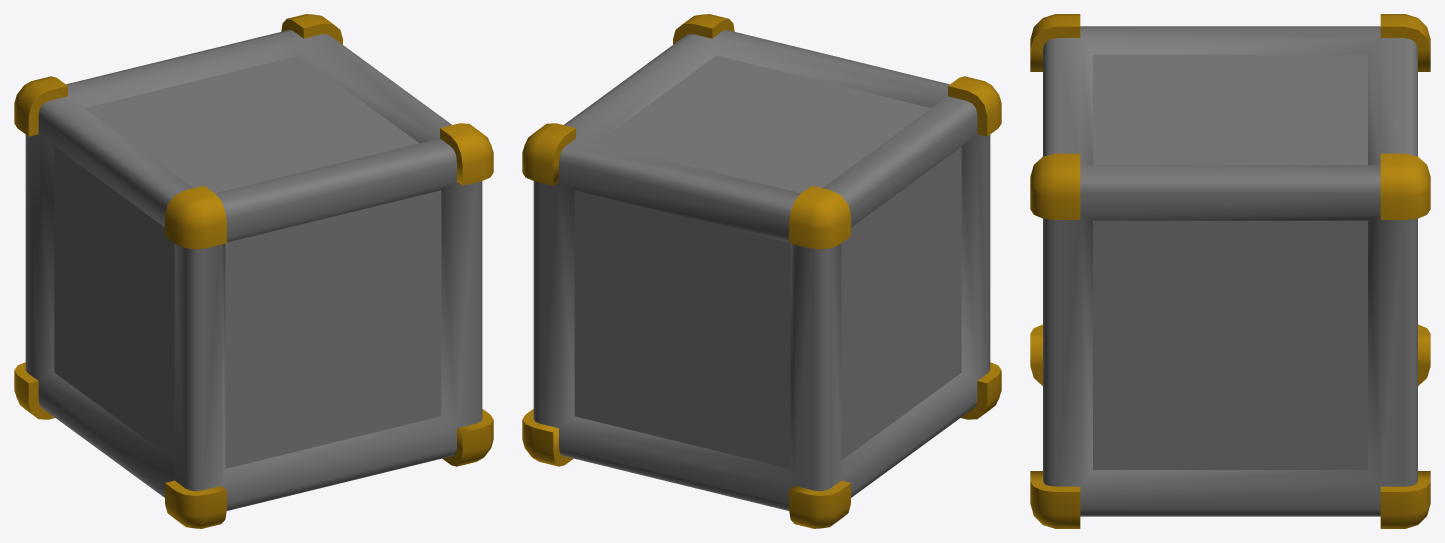
The model's file is Crate_4.fbx.
The picture shows the model from 3 angles, left to right: view 1: azimuth 30°, elevation 25°; view 2: azimuth 150°, elevation 25°; view 3: azimuth 270°, elevation 25°; orthographic projection. The views are drawn at different scales.
Visible parts, largest first — view 1: Crate_04_snaps002:Crate_04_snaps002; view 2: Crate_04_snaps002:Crate_04_snaps002; view 3: Crate_04_snaps002:Crate_04_snaps002.
Part boxes in pixels (box(x1,y1,x2,y2)): Crate_04_snaps002:Crate_04_snaps002: box(14, 14, 493, 528); Crate_04_snaps002:Crate_04_snaps002: box(522, 14, 1001, 528); Crate_04_snaps002:Crate_04_snaps002: box(1030, 14, 1430, 528).
Bounding box in the file's own units: 1 × 1 × 1.
